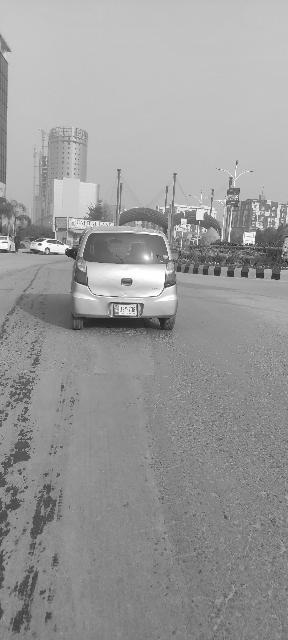Number: (120, 306, 136, 312)
